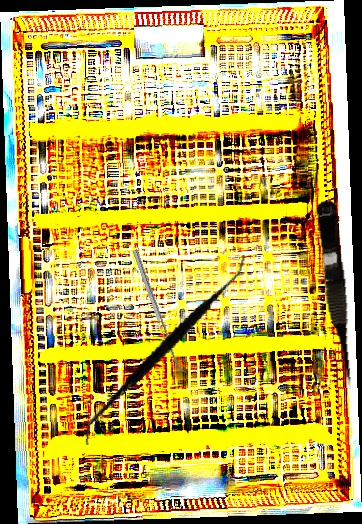Micro Scissor: (310, 198, 360, 393)
Spatula Surgical: (84, 232, 248, 468), (132, 247, 188, 377)
